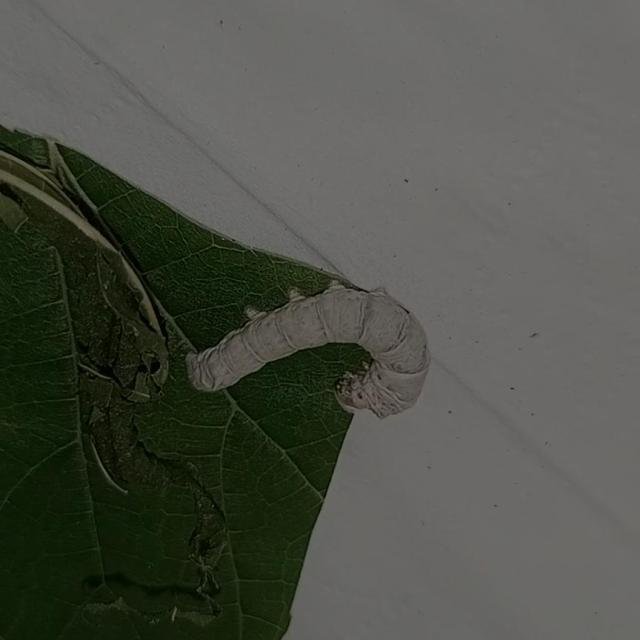Healthy: (170, 268, 438, 433)
